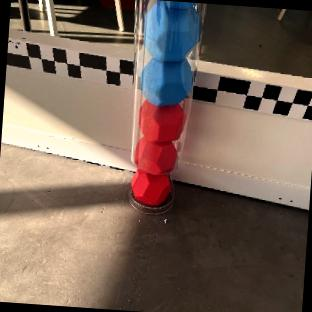V5_BLUE: (142, 0, 200, 61), (139, 55, 191, 104)
V5_RED: (137, 97, 187, 141), (134, 136, 178, 174), (130, 170, 170, 205)
